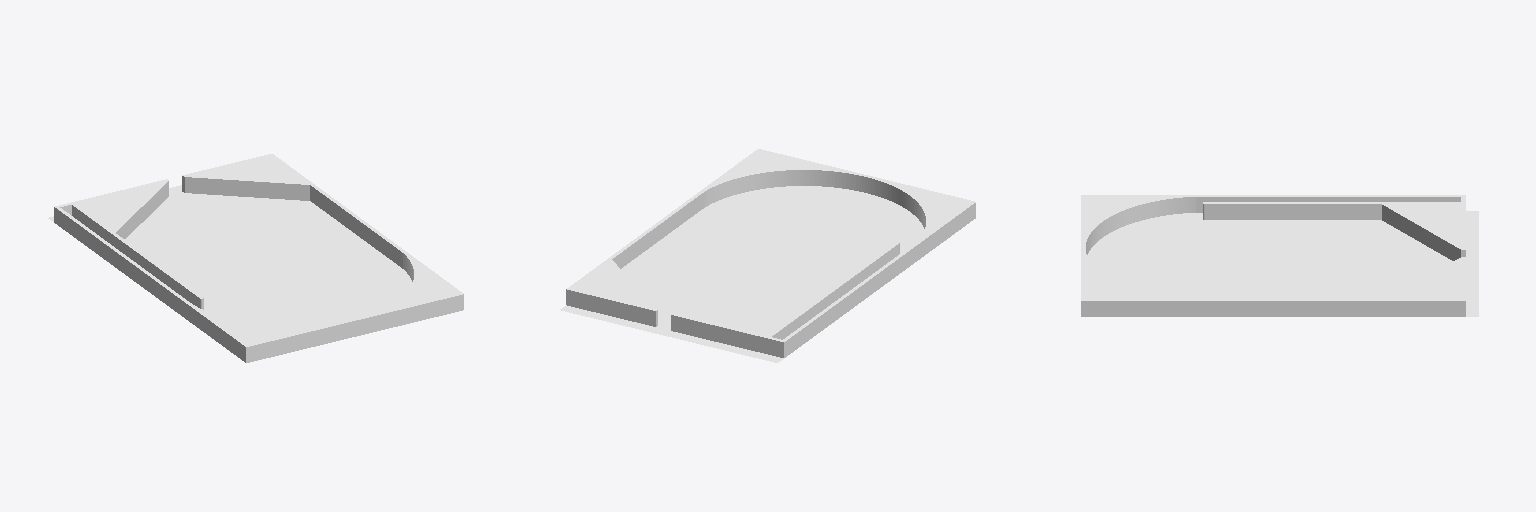
The model's file is board-v1.obj.
3 renders of one model, left to right at view 1: azimuth 30°, elevation 25°; view 2: azimuth 150°, elevation 25°; view 3: azimuth 270°, elevation 25°, orthographic.
Parts seen in each view (by area): view 1: SketchUp_ID3.001; view 2: SketchUp_ID3.001; view 3: SketchUp_ID3.001.
Boxes of the visible parts, <box> form: SketchUp_ID3.001: <box>48,154,463,362</box>; SketchUp_ID3.001: <box>560,149,975,362</box>; SketchUp_ID3.001: <box>1081,195,1478,316</box>.
Size of the model in its own units: 0.57 by 0.04 by 0.9.